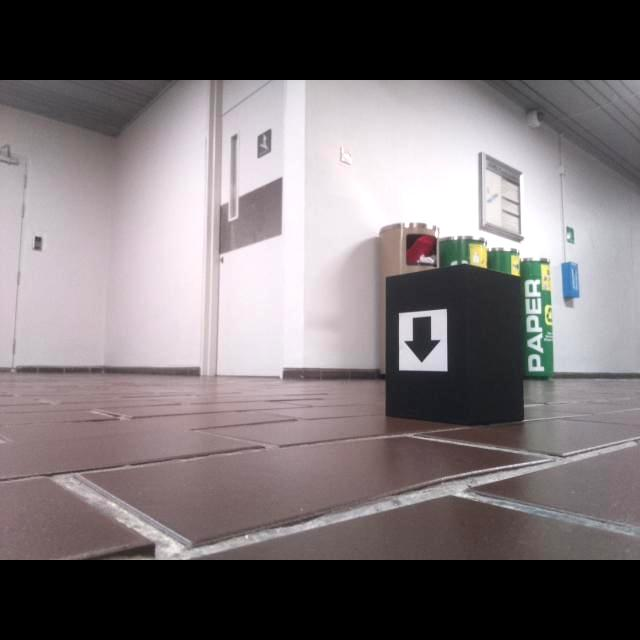DOWN: (403, 315, 441, 364)
